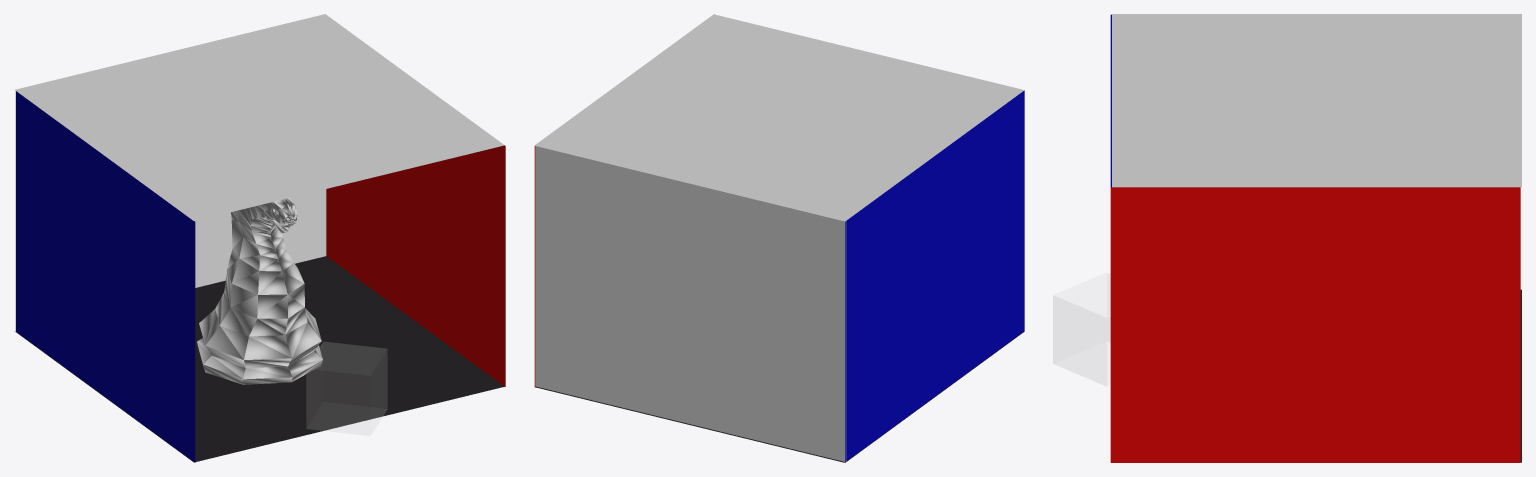
The model's file is SalleCheval.obj.
3 renders of one model, left to right at view 1: azimuth 30°, elevation 25°; view 2: azimuth 150°, elevation 25°; view 3: azimuth 270°, elevation 25°, orthographic. The views are drawn at different scales.
Visible parts, largest first — view 1: Plane.001, Plane.003, Plane.004, Plane, LOW_POLY_piece_Knight_FINAL, Cube, Plane.002; view 2: Plane.002, Plane.001, Plane.003, Plane; view 3: Plane.004, Plane.001, Cube.
Boxes of the visible parts, x1,y1,x2,y2 form: Plane.001: (15, 14, 504, 220); Plane.003: (16, 91, 195, 462); Plane.004: (326, 145, 505, 386); Plane: (15, 256, 504, 462); LOW_POLY_piece_Knight_FINAL: (197, 198, 322, 384); Cube: (307, 342, 386, 435); Plane.002: (15, 91, 326, 331); Plane.002: (535, 146, 846, 461); Plane.001: (534, 14, 1024, 221); Plane.003: (845, 90, 1024, 461); Plane: (534, 331, 1024, 462); Plane.004: (1110, 187, 1520, 462); Plane.001: (1112, 14, 1521, 187); Cube: (1053, 273, 1109, 385).
Size of the model in its own units: 10.79 by 8.15 by 12.33.
